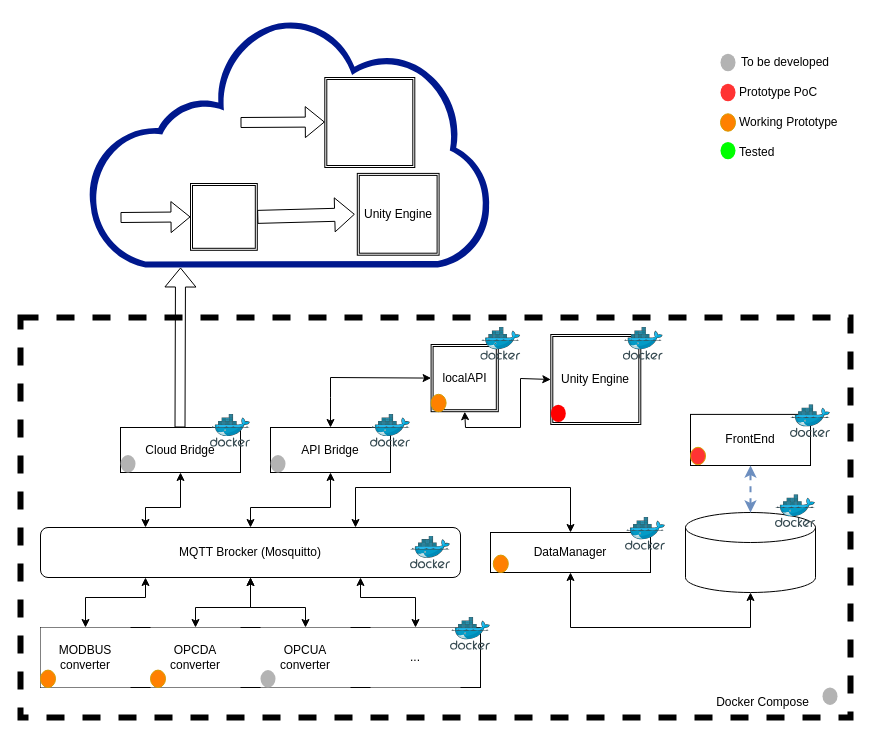
This 870x737 diagram has some shape labels left out. The centre of each missing label's shape, as x and y in pixels:
"cloudAPI" belongs at pixel 223 216.
"Dashboard" belongs at pixel 369 122.
"MongoDB" belongs at pixel 750 552.
